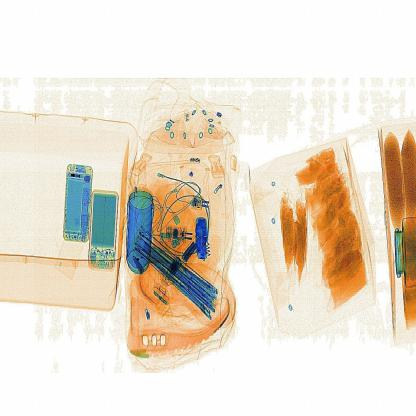scissors: (192, 212, 214, 263)
